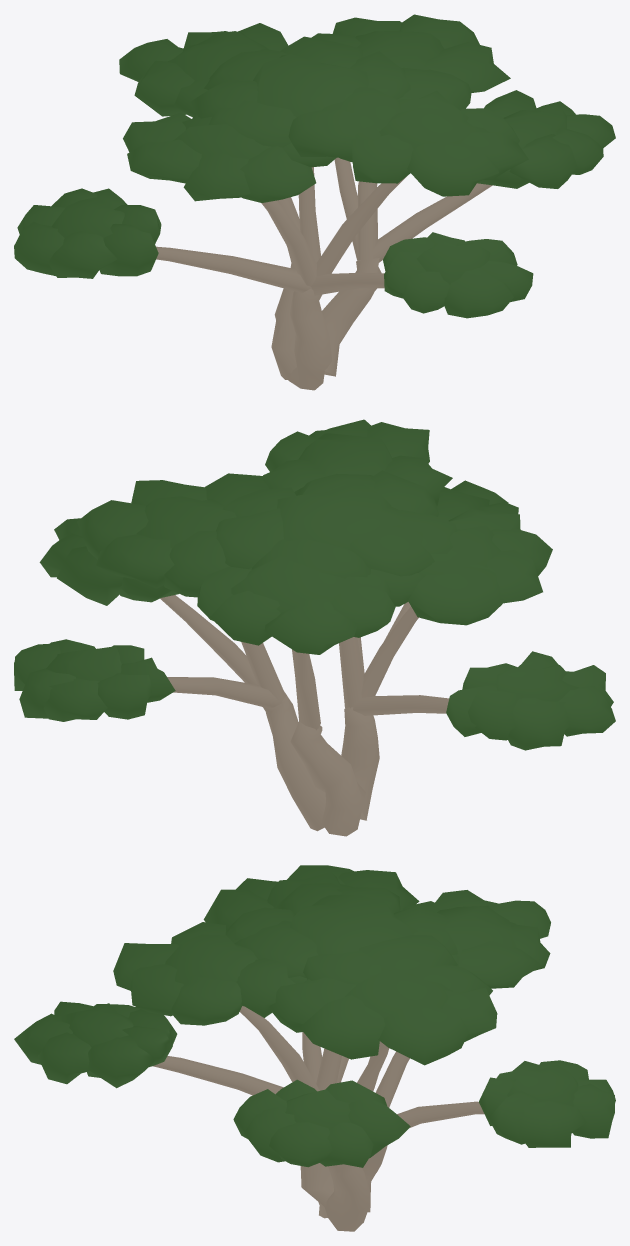
The model's file is Blender_MontereyCypress_1.glb.
3 renders of one model, top to bottom at view 1: azimuth 30°, elevation 25°; view 2: azimuth 150°, elevation 25°; view 3: azimuth 270°, elevation 25°, orthographic. The views are drawn at different scales.
Parts seen in each view (by area): view 1: Blender_MontereyCypress_1; view 2: Blender_MontereyCypress_1; view 3: Blender_MontereyCypress_1.
Boxes of the visible parts, x1,y1,x2,y2 form: Blender_MontereyCypress_1: (14, 14, 615, 390); Blender_MontereyCypress_1: (14, 419, 615, 836); Blender_MontereyCypress_1: (14, 865, 615, 1231).
Bounding box in the file's own units: 27.9 × 14.66 × 25.91.
